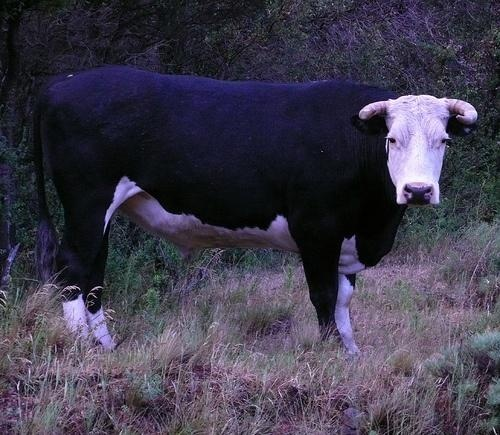cow: (35, 64, 479, 356)
